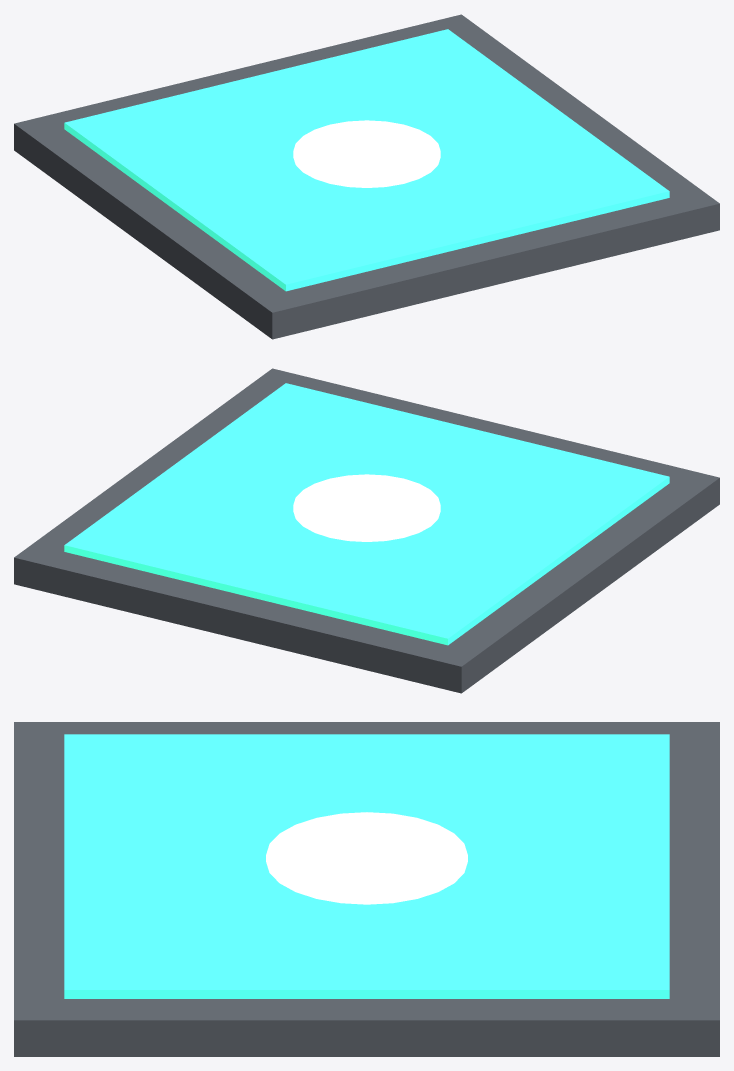
The model's file is landing_pad.glb.
3 renders of one model, top to bottom at view 1: azimuth 30°, elevation 25°; view 2: azimuth 150°, elevation 25°; view 3: azimuth 270°, elevation 25°, orthographic. The views are drawn at different scales.
Visible parts, largest first — view 1: pad_touchdown_surface, pad_base, pad_bullseye_ring; view 2: pad_touchdown_surface, pad_base, pad_bullseye_ring; view 3: pad_touchdown_surface, pad_base, pad_bullseye_ring.
Boxes of the visible parts, x1,y1,x2,y2 form: pad_touchdown_surface: (64,29,669,291); pad_base: (14,14,719,339); pad_bullseye_ring: (293,120,440,187); pad_touchdown_surface: (64,383,669,645); pad_base: (14,368,719,693); pad_bullseye_ring: (293,474,440,541); pad_touchdown_surface: (64,734,669,998); pad_base: (14,722,719,1056); pad_bullseye_ring: (266,812,467,904).
Bounding box in the file's own units: 0.35 × 0.029 × 0.35.
